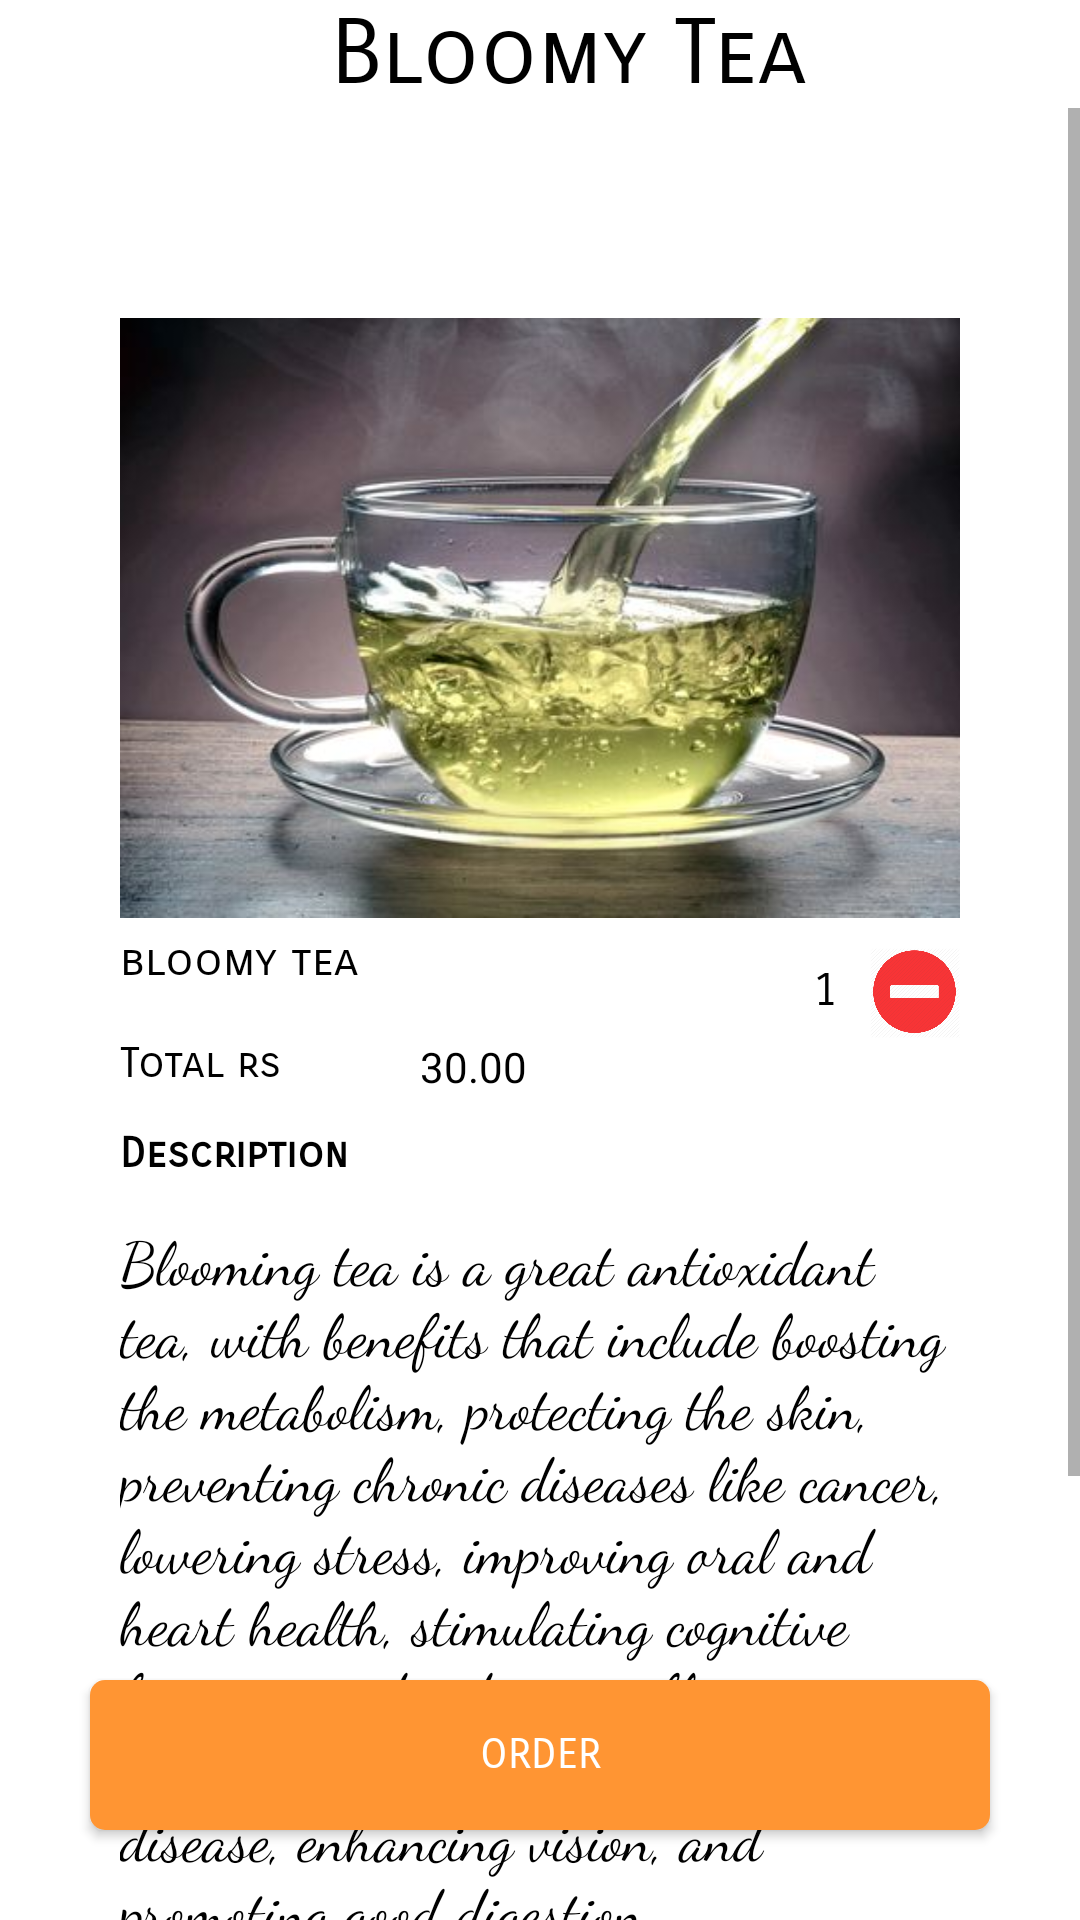

Screen size 1080x1920. Icon name, then its box in pixels as Rect(x1, y1, x2, y2):
minus: Rect(873, 950, 956, 1033)
